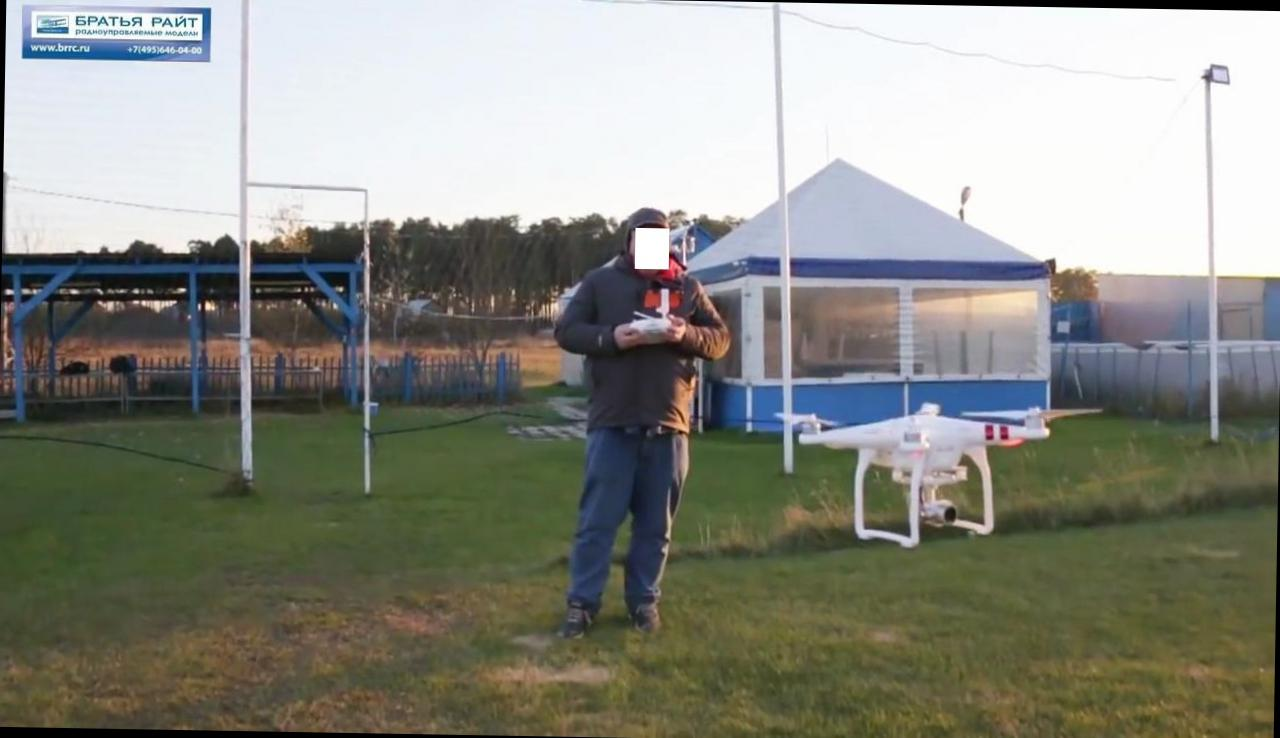drone: (766, 393, 1087, 548)
